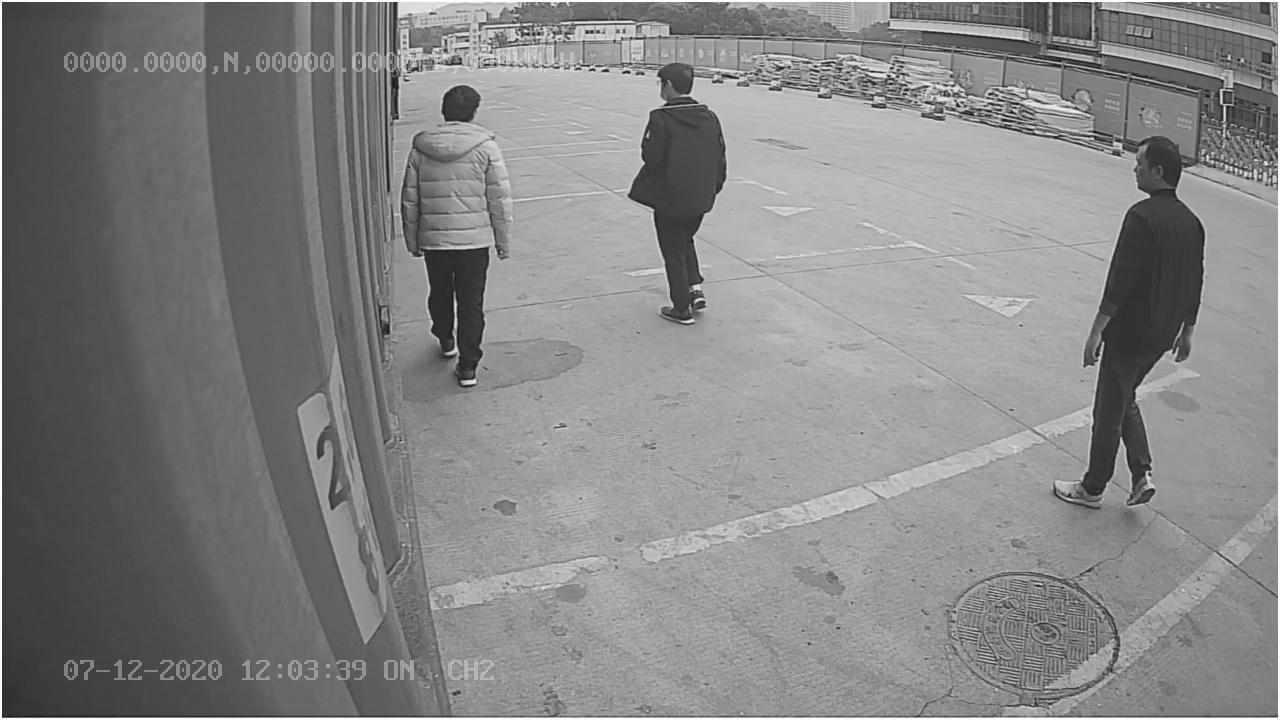person: (1052, 129, 1206, 514), (401, 80, 513, 389), (626, 57, 736, 334)
